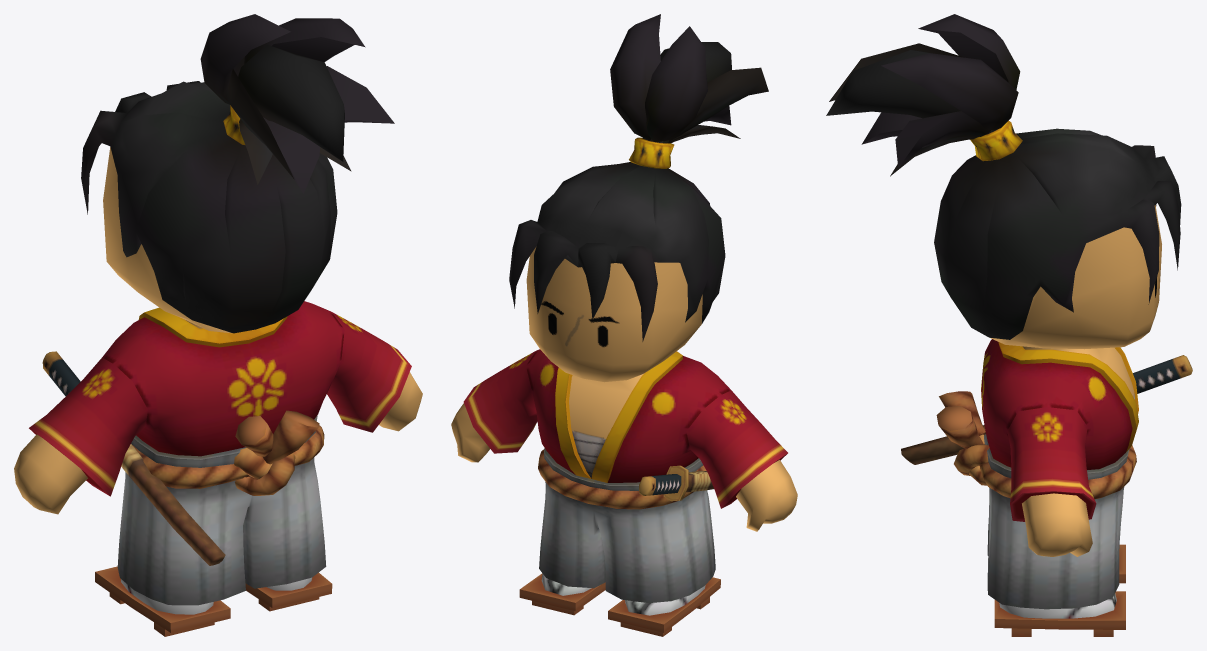
Rendered from samurai.obj.
3 views of the same model, side by side, from view 1: azimuth 30°, elevation 25°; view 2: azimuth 150°, elevation 25°; view 3: azimuth 270°, elevation 25° (orthographic). The views are drawn at different scales.
Visible parts, largest first — view 1: Playerskinsamuraivariant10011; view 2: Playerskinsamuraivariant10011; view 3: Playerskinsamuraivariant10011.
Boxes of the visible parts, x1=… form: Playerskinsamuraivariant10011: x1=14, y1=14, x2=422, y2=636; Playerskinsamuraivariant10011: x1=451, y1=14, x2=797, y2=636; Playerskinsamuraivariant10011: x1=826, y1=14, x2=1192, y2=636.
Bounding box in the file's own units: 5.06 × 7.71 × 4.45.
1 material, 1 textured.
